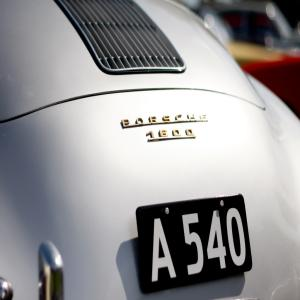Vehicle-registration-plate: (135, 194, 255, 299)
